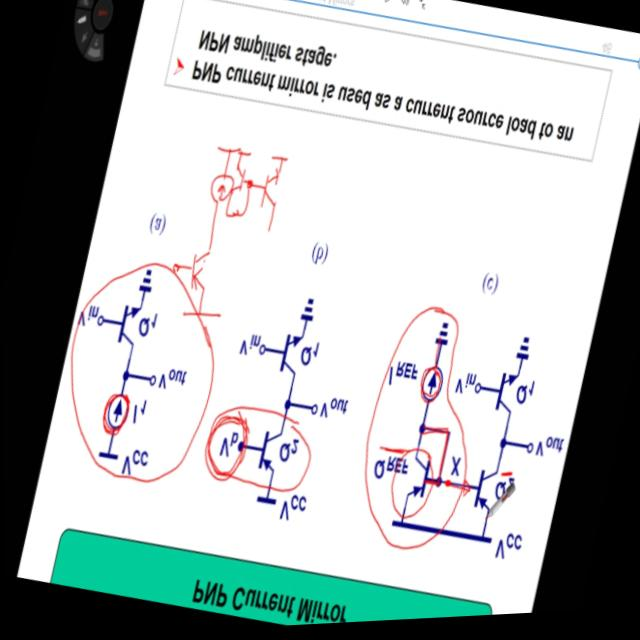panseo: (146, 101, 328, 357)
